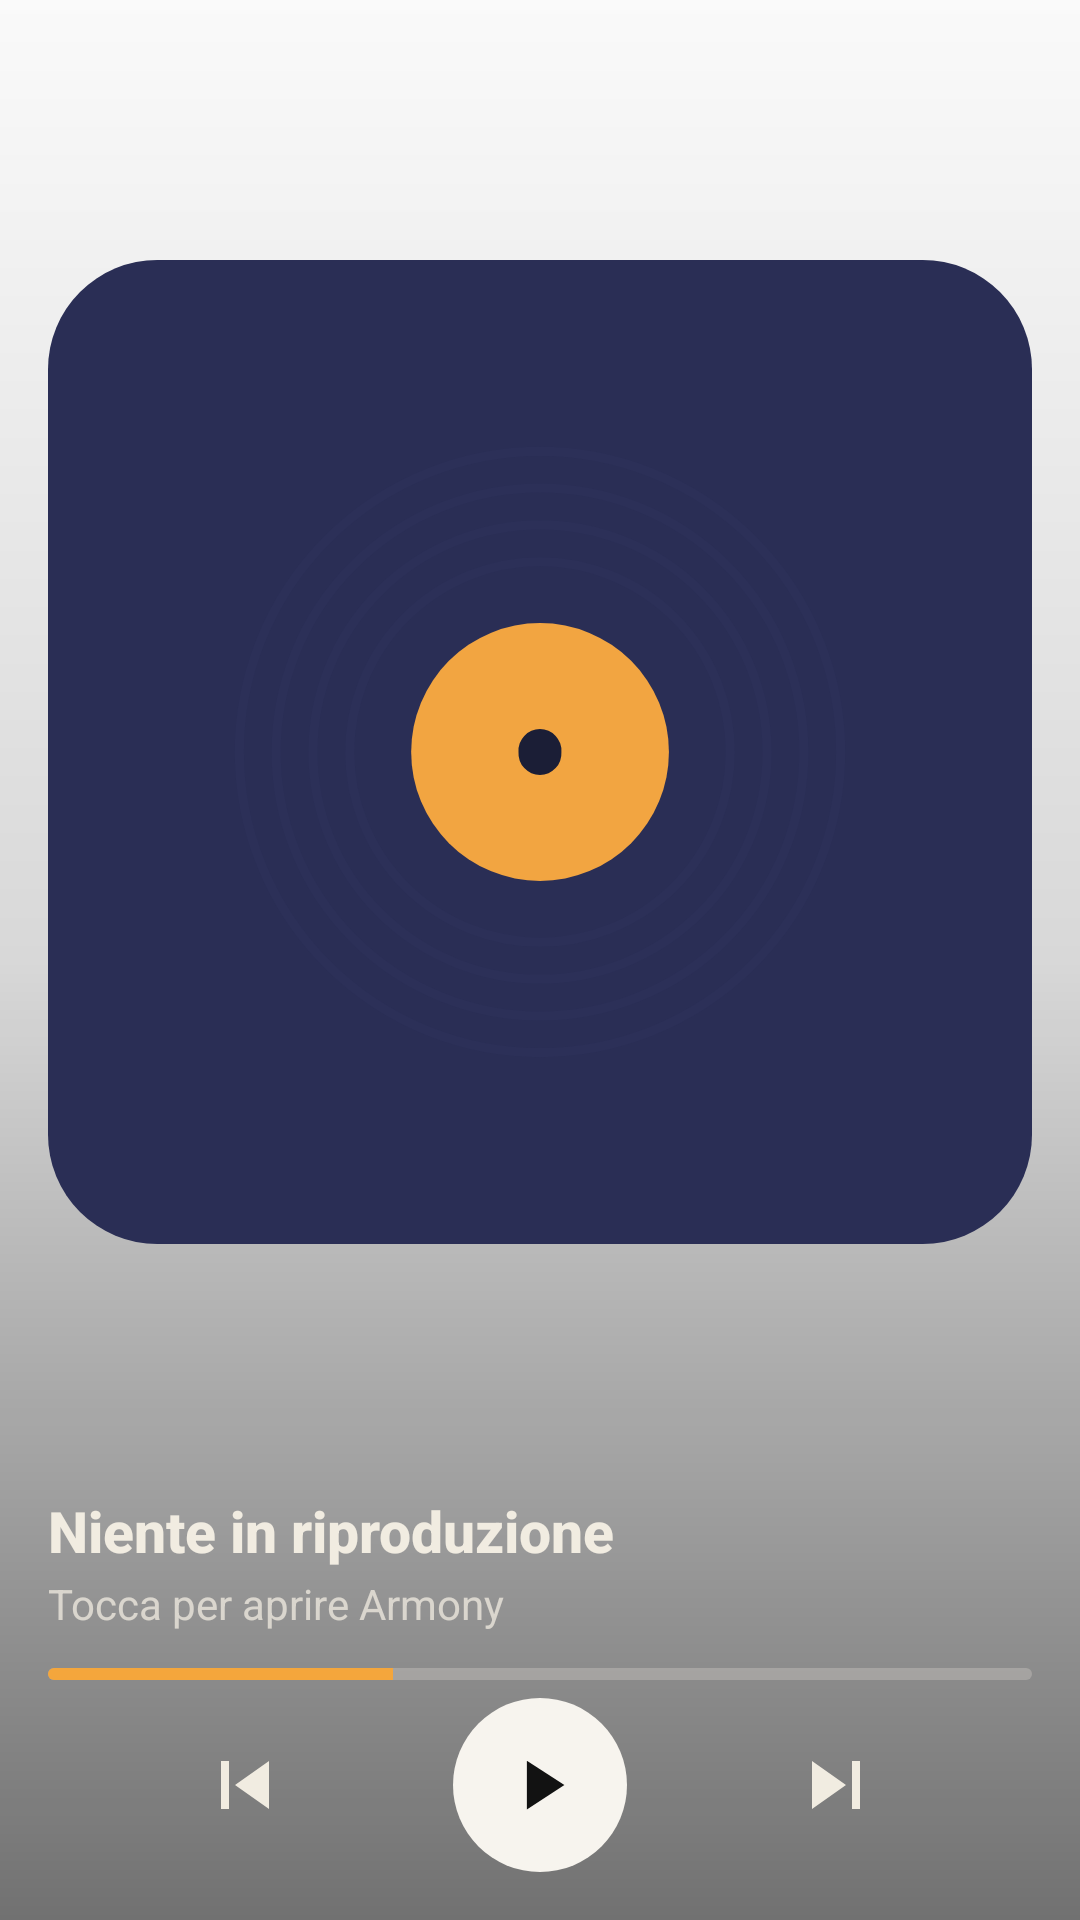

Named icons in this screenshot (1080px x 1920px) and their centers, (x=x, y=y):
Precedente: (x=245, y=1785)
Riproduci: (x=540, y=1785)
Successivo: (x=836, y=1785)
